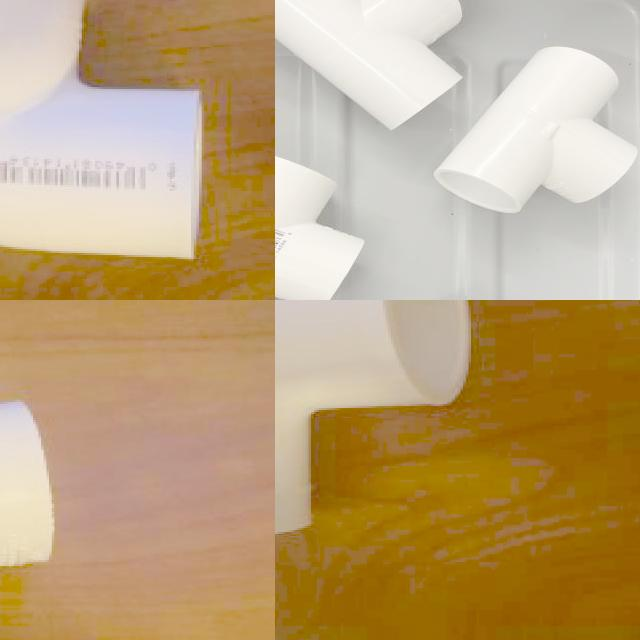L Joint: (275, 300, 472, 537)
T Joint: (435, 46, 638, 217), (275, 0, 463, 132), (275, 155, 360, 300)
